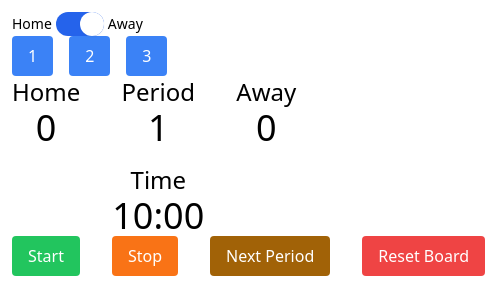
Scenario: tests without the setup function › resets the time display when period is advanced
Click the button "Start": (46, 256) top-left (12, 236), bottom-right (80, 276)
Wait 30000 ms
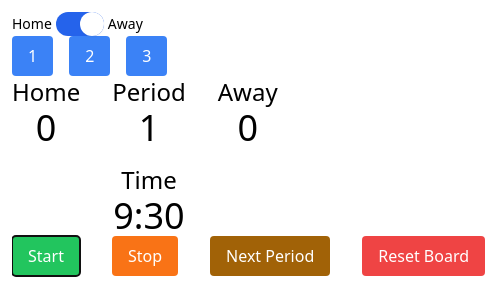
Expected: the text with test id "time" reads "9:30", top-left (113, 191), bottom-right (185, 240)
Click the button "Next Period": (270, 256) top-left (210, 236), bottom-right (330, 276)
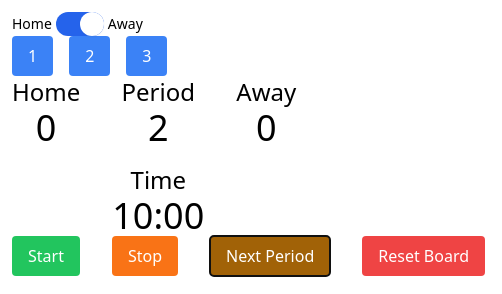
Expected: the text with test id "time" reads "10:00", top-left (112, 191), bottom-right (204, 240)
